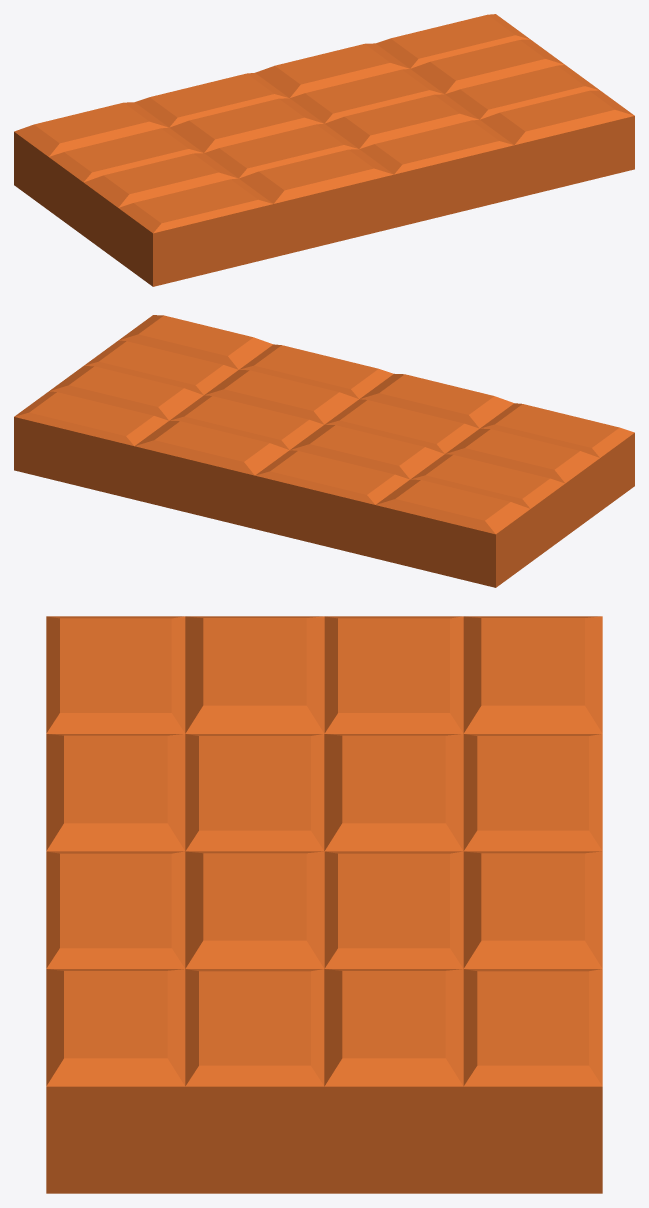
File: chocolate_bar.glb
The picture shows the model from 3 angles, top to bottom: view 1: azimuth 30°, elevation 25°; view 2: azimuth 150°, elevation 25°; view 3: azimuth 270°, elevation 25°; orthographic projection. The views are drawn at different scales.
Parts seen in each view (by area): view 1: Cube; view 2: Cube; view 3: Cube.
Part boxes in pixels (left/top/right/bottom): Cube: left=14, top=14, right=634, bottom=286; Cube: left=14, top=315, right=634, bottom=587; Cube: left=46, top=616, right=602, bottom=1193.
Bounding box in the file's own units: 0.2 × 0.0239 × 0.1.
